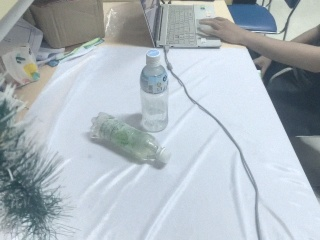bottle: (89, 108, 171, 174), (138, 49, 171, 134)
box: (22, 1, 105, 51), (1, 24, 43, 85)
